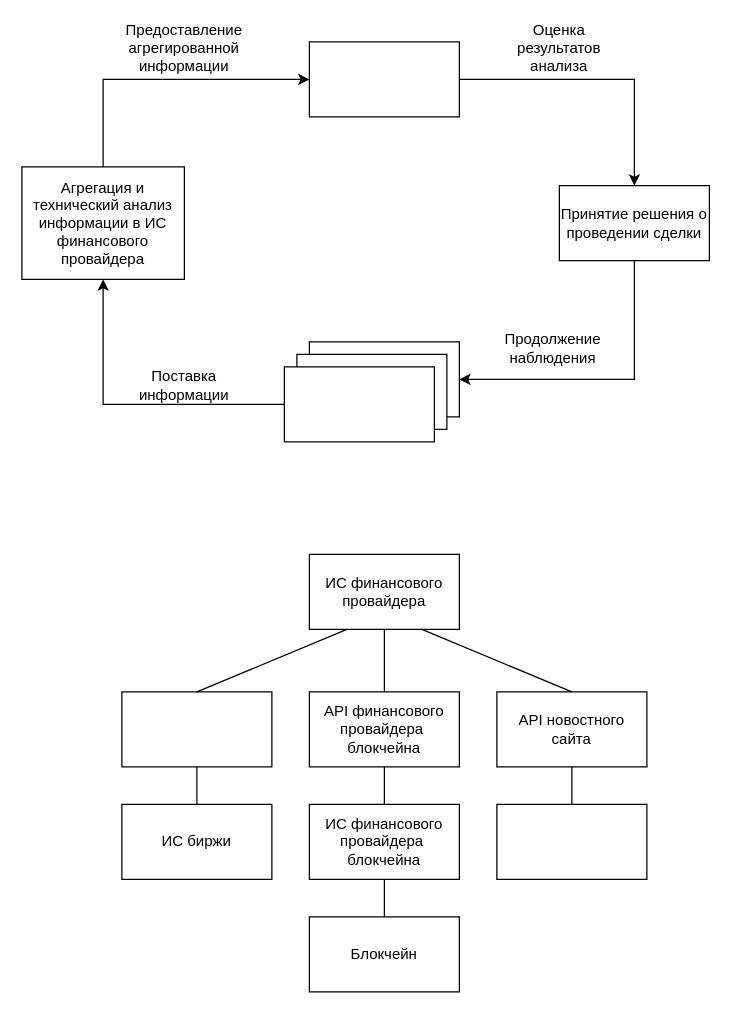
Image size: 731x1014. Some labels were removed from this diagram. Here are the shapes that lost their labels. From the top down, the centre of each, then its label:
point (383, 79): Анализ информации инвестором
point (358, 404): Сбор информации с API бирж, систем финансовой отчетности и т.д.
point (196, 729): API биржи
point (571, 841): Новостной сайт
